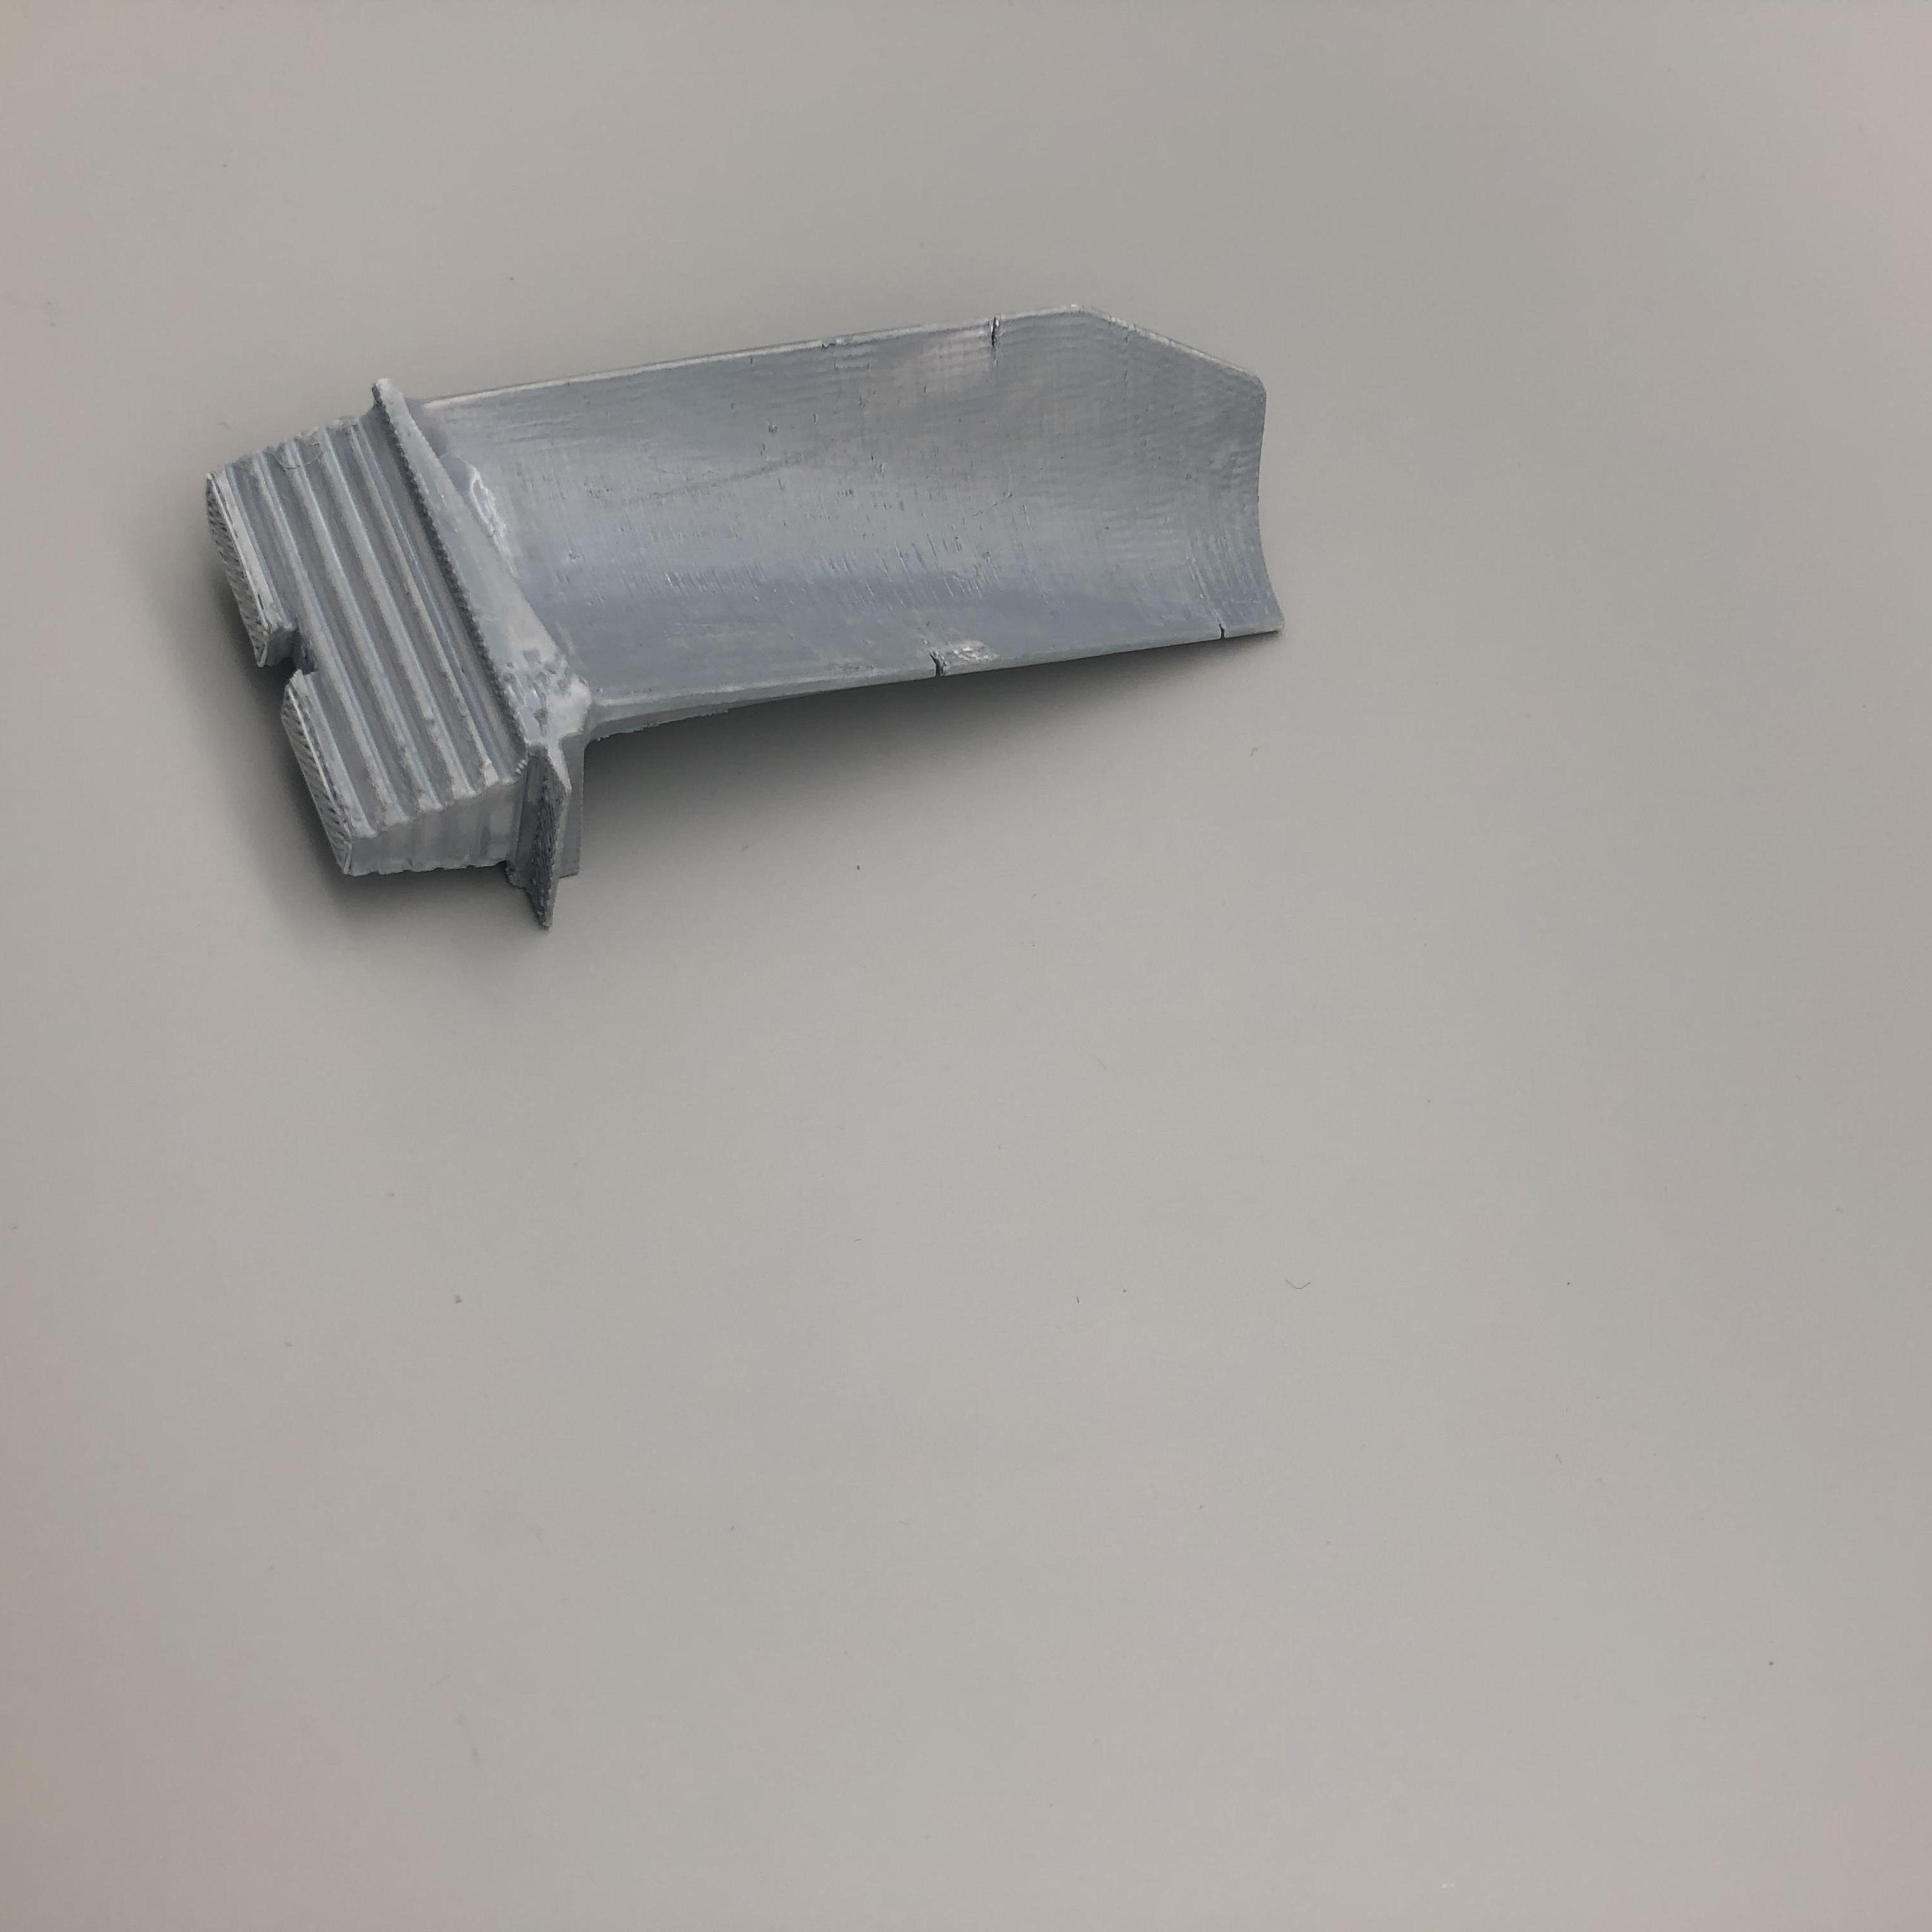groove: (925, 646, 961, 686), (982, 318, 1014, 354), (1212, 623, 1238, 642)
